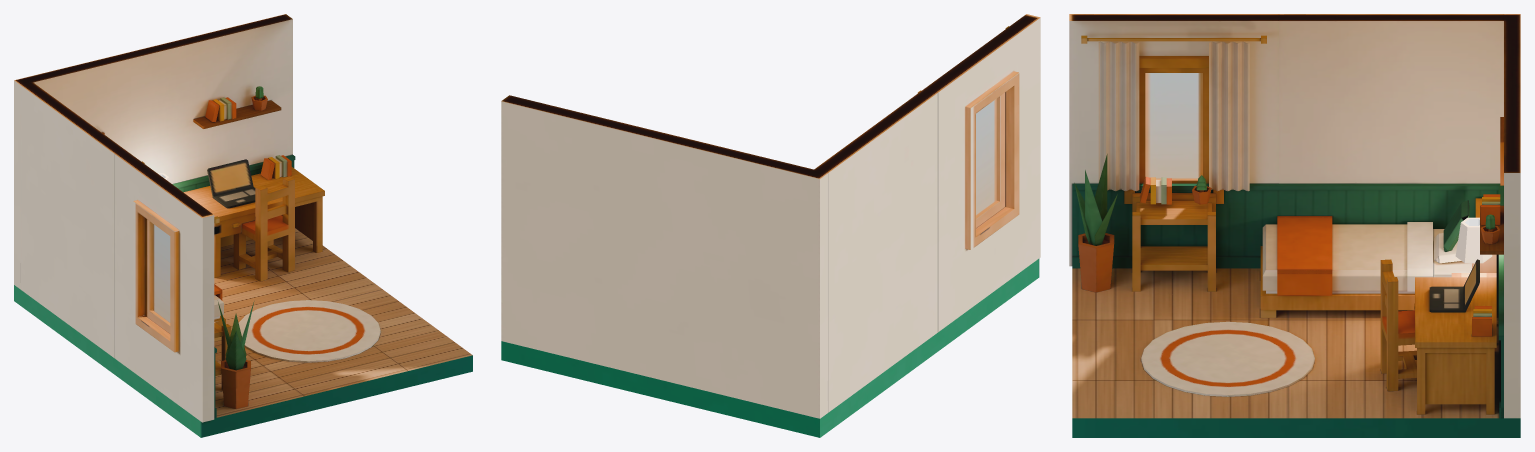
File: simple.glb
3 renders of one model, left to right at view 1: azimuth 30°, elevation 25°; view 2: azimuth 150°, elevation 25°; view 3: azimuth 270°, elevation 25°, orthographic. The views are drawn at different scales.
Parts seen in each view (by area): view 1: Horneado simple; view 2: Horneado simple; view 3: Horneado simple.
Boxes of the visible parts, bbox=[...] form: Horneado simple: bbox=[14, 14, 472, 437]; Horneado simple: bbox=[501, 14, 1040, 437]; Horneado simple: bbox=[1069, 14, 1520, 437].
Size of the model in its own units: 3.19 by 2.44 by 3.77.
1 material, 1 textured.
